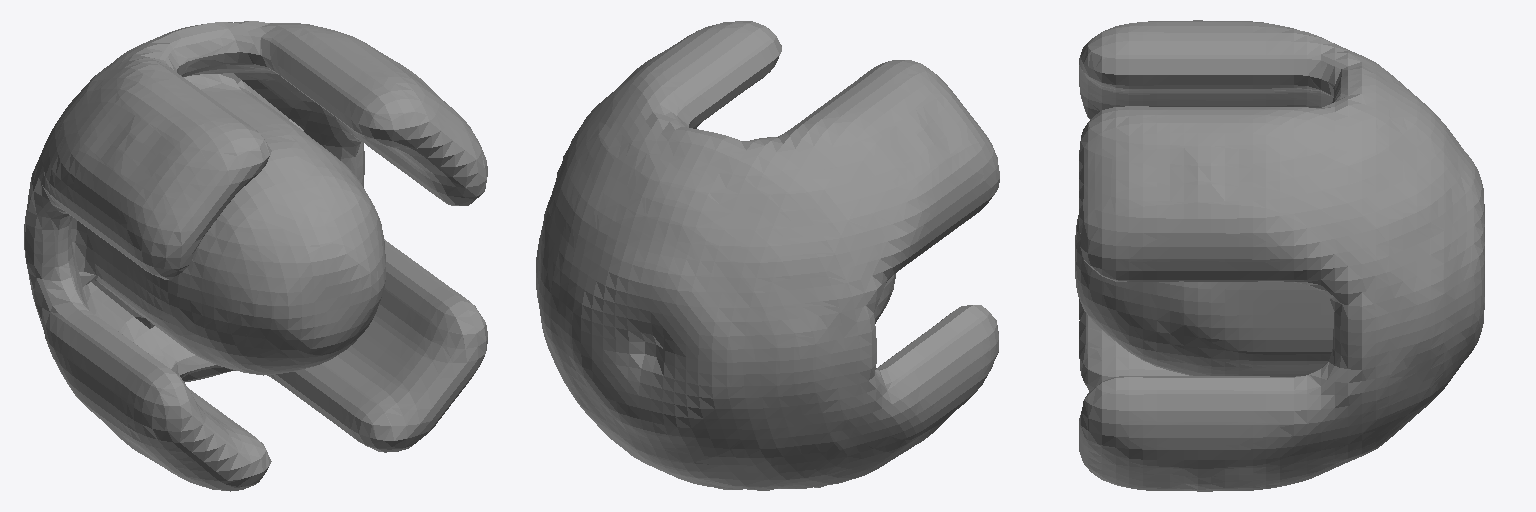
robot.urdf — cube.urdf:
<?xml version="0.0" ?> 
<robot name="cube.urdf"> 
<link name="legobrick"> 
<contact> 
<lateral_friction value="5.0"/> 
<rolling_friction value="0.0"/> 
<contact_cfm value="0.0"/> 
<contact_erp value="1.0"/> 
</contact> 
<inertial> 
<origin rpy="0 0 0" xyz="0.0 0.0 0.0"/> 
<mass value=".01"/> 
<inertia ixx="1" ixy="0" ixz="0" iyy="1" iyz="0" izz="1"/> 
</inertial> 
<visual> 
<origin rpy="1.570796 0 0" xyz="-0.025851507282979816 0.02794415102963889 -0.025856231469818462"/> 
<geometry> 
<mesh filename="F08_3.obj" scale="0.0006998547325528735 0.0006998547325528735 0.0006998547325528735"/> 
</geometry> 
<material name="yellow"> 
<color rgba="0.6 0.6 0.6 1"/> 
</material> 
</visual> 
<collision> 
<origin rpy="1.570796 0 0" xyz="-0.025851507282979816 0.02794415102963889 -0.025856231469818462"/> 
<geometry> 
<mesh filename="F08_3.obj" scale="0.0006998547325528735 0.0006998547325528735 0.0006998547325528735"/> 
</geometry> 
</collision> 
</link> 
</robot>

--- Render facts (derived) ---
3 views of the same robot in one strip: view 1: azimuth 30°, elevation 25°; view 2: azimuth 150°, elevation 25°; view 3: azimuth 270°, elevation 25° (orthographic).
Robot: cube.urdf — 1 links, 0 joints (none); root link legobrick; default pose: every joint at zero.
Links seen in each view (by area): view 1: legobrick; view 2: legobrick; view 3: legobrick.
Link boxes in pixels (x1,y1,x2,y2): legobrick: [24, 21, 487, 491]; legobrick: [536, 21, 999, 490]; legobrick: [1075, 20, 1484, 491].
Size in the robot's own frame: 0.056 by 0.0561 by 0.056 metres.
1 mesh visuals loaded from 1 distinct referenced files (1 OBJ).
